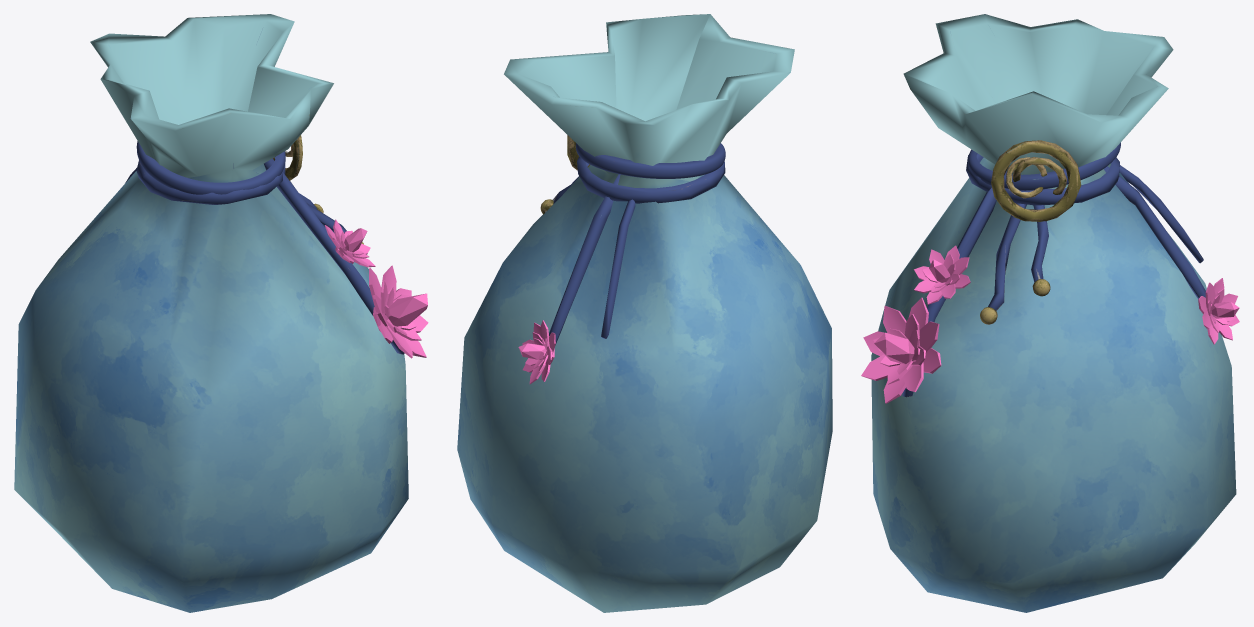
Rendered from bag.glb.
3 renders of one model, left to right at view 1: azimuth 30°, elevation 25°; view 2: azimuth 150°, elevation 25°; view 3: azimuth 270°, elevation 25°, orthographic.
Visible parts, largest first — view 1: polySurface315; view 2: polySurface315; view 3: polySurface315.
Part boxes in pixels (left/top/right/bottom): polySurface315: left=14, top=14, right=428, bottom=612; polySurface315: left=457, top=14, right=832, bottom=612; polySurface315: left=861, top=14, right=1239, bottom=612.
Bounding box in the file's own units: 0.5 × 0.75 × 0.5.
Materials: 4 (1 with a texture image).
